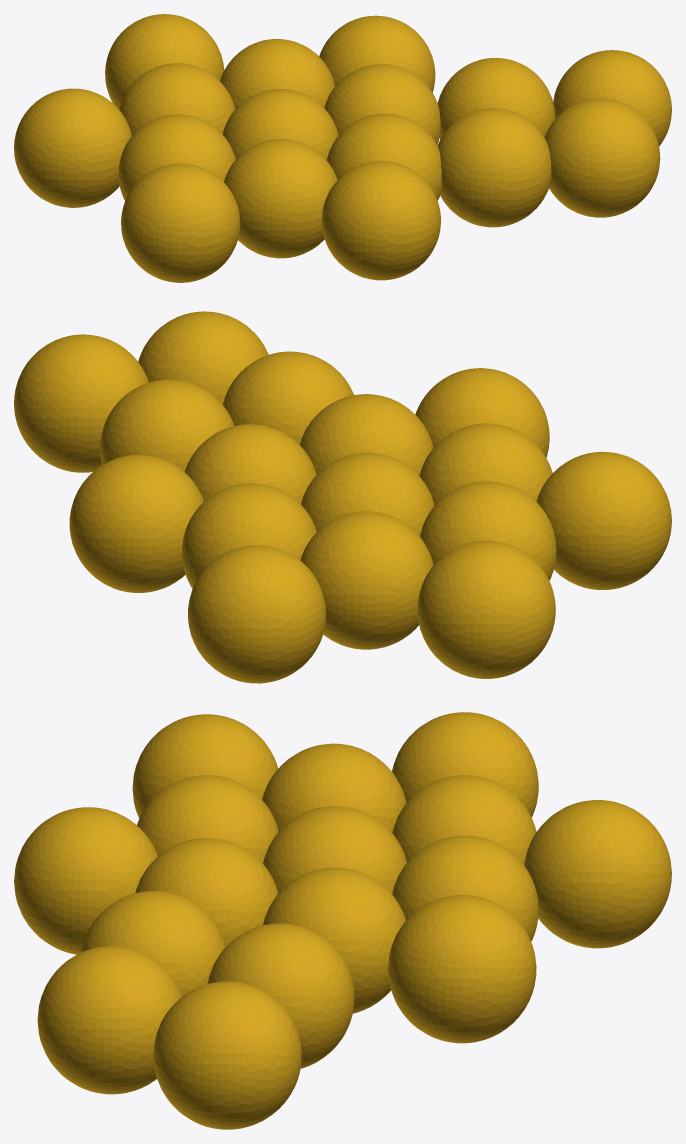
The model's file is huevos.fbx.
3 views of the same model, one above another, from view 1: azimuth 30°, elevation 25°; view 2: azimuth 150°, elevation 25°; view 3: azimuth 270°, elevation 25° (orthographic). The views are drawn at different scales.
Visible parts, largest first — view 1: Sphere.011, Sphere.008, Sphere.013, Sphere.015, Sphere.009, Sphere.006, Sphere.010, Sphere.014, Sphere.004, Sphere.007, Sphere.001, Sphere.003 (+4 smaller); view 2: Sphere.010, Sphere.009, Sphere.011, Sphere.012, Sphere.003, Sphere.014, Sphere.004, Sphere.002, Sphere.007, Sphere.013, Sphere.015, Sphere (+4 smaller); view 3: Sphere.014, Sphere.012, Sphere.010, Sphere.015, Sphere.008, Sphere.004, Sphere.001, Sphere.009, Sphere.005, Sphere.011, Sphere.013, Sphere.002 (+4 smaller).
Boxes of the visible parts, x1=… form: Sphere.011: x1=121, y1=163, x2=240, y2=282; Sphere.008: x1=321, y1=161, x2=440, y2=280; Sphere.013: x1=437, y1=108, x2=551, y2=227; Sphere.015: x1=544, y1=98, x2=660, y2=217; Sphere.009: x1=14, y1=88, x2=131, y2=207; Sphere.006: x1=224, y1=139, x2=337, y2=258; Sphere.010: x1=105, y1=14, x2=224, y2=109; Sphere.014: x1=553, y1=50, x2=671, y2=146; Sphere.004: x1=437, y1=58, x2=555, y2=139; Sphere.007: x1=118, y1=114, x2=235, y2=200; Sphere.001: x1=324, y1=64, x2=440, y2=144; Sphere.003: x1=119, y1=63, x2=235, y2=135; Sphere.010: x1=188, y1=545, x2=326, y2=683; Sphere.009: x1=417, y1=540, x2=555, y2=678; Sphere.011: x1=536, y1=451, x2=671, y2=589; Sphere.012: x1=69, y1=454, x2=203, y2=592; Sphere.003: x1=300, y1=511, x2=433, y2=649; Sphere.014: x1=14, y1=334, x2=148, y2=472; Sphere.004: x1=100, y1=379, x2=234, y2=471; Sphere.002: x1=182, y1=483, x2=316, y2=588; Sphere.007: x1=419, y1=481, x2=556, y2=580; Sphere.013: x1=223, y1=351, x2=353, y2=444; Sphere.015: x1=138, y1=311, x2=268, y2=404; Sphere: x1=301, y1=452, x2=434, y2=535; Sphere.014: x1=153, y1=981, x2=301, y2=1129; Sphere.012: x1=388, y1=895, x2=536, y2=1043; Sphere.010: x1=524, y1=800, x2=671, y2=948; Sphere.015: x1=37, y1=946, x2=181, y2=1094; Sphere.008: x1=14, y1=807, x2=157, y2=954; Sphere.004: x1=207, y1=923, x2=354, y2=1068; Sphere.001: x1=263, y1=867, x2=405, y2=1013; Sphere.009: x1=392, y1=712, x2=538, y2=817; Sphere.005: x1=135, y1=838, x2=278, y2=946; Sphere.011: x1=132, y1=714, x2=278, y2=818; Sphere.013: x1=81, y1=891, x2=225, y2=996; Sphere.002: x1=392, y1=835, x2=538, y2=941.
Size of the model in its own units: 1058 by 200 by 886.
Materials: 1 (1 with a texture image).
